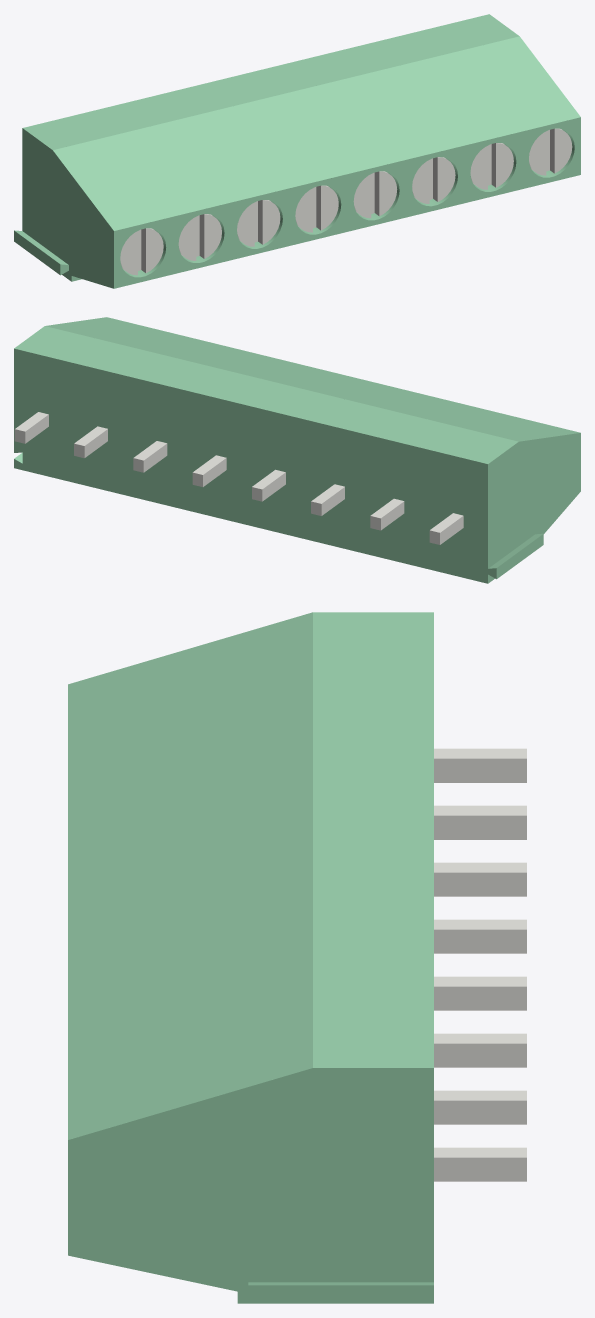
File: TerminalBlock_Phoenix_MKDS-1,5-8-5.08_1x08_P5.08mm_Horizontal.glb
3 views of the same model, one above another, from view 1: azimuth 30°, elevation 25°; view 2: azimuth 150°, elevation 25°; view 3: azimuth 270°, elevation 25° (orthographic). The views are drawn at different scales.
Visible parts, largest first — view 1: Shape_IndexedFaceSet.003, Shape_IndexedFaceSet.004, Shape_IndexedFaceSet.002, Shape_IndexedFaceSet, Shape_IndexedFaceSet.237, Shape_IndexedFaceSet.277, Shape_IndexedFaceSet.287, Shape_IndexedFaceSet.227, Shape_IndexedFaceSet.257, Shape_IndexedFaceSet.261, Shape_IndexedFaceSet.231, Shape_IndexedFaceSet.217 (+9 smaller); view 2: Shape_IndexedFaceSet.005, Shape_IndexedFaceSet.004, Shape_IndexedFaceSet.003, Shape_IndexedFaceSet, Shape_IndexedFaceSet.020; view 3: Shape_IndexedFaceSet.003, Shape_IndexedFaceSet.011, Shape_IndexedFaceSet.004, Shape_IndexedFaceSet.027, Shape_IndexedFaceSet.031, Shape_IndexedFaceSet.035, Shape_IndexedFaceSet.039, Shape_IndexedFaceSet.043, Shape_IndexedFaceSet.047, Shape_IndexedFaceSet.051, Shape_IndexedFaceSet.055, Shape_IndexedFaceSet.022 (+8 smaller).
Boxes of the visible parts, x1=… form: Shape_IndexedFaceSet.003: x1=53, y1=36, x2=580, y2=230; Shape_IndexedFaceSet.004: x1=23, y1=14, x2=519, y2=149; Shape_IndexedFaceSet.002: x1=114, y1=117, x2=580, y2=288; Shape_IndexedFaceSet: x1=22, y1=128, x2=113, y2=288; Shape_IndexedFaceSet.237: x1=437, y1=157, x2=455, y2=201; Shape_IndexedFaceSet.277: x1=262, y1=200, x2=280, y2=244; Shape_IndexedFaceSet.287: x1=554, y1=129, x2=572, y2=173; Shape_IndexedFaceSet.227: x1=379, y1=171, x2=397, y2=216; Shape_IndexedFaceSet.257: x1=204, y1=214, x2=221, y2=258; Shape_IndexedFaceSet.261: x1=178, y1=217, x2=196, y2=260; Shape_IndexedFaceSet.231: x1=353, y1=174, x2=371, y2=218; Shape_IndexedFaceSet.217: x1=496, y1=143, x2=513, y2=187; Shape_IndexedFaceSet.005: x1=14, y1=348, x2=496, y2=583; Shape_IndexedFaceSet.004: x1=14, y1=326, x2=518, y2=463; Shape_IndexedFaceSet.003: x1=45, y1=317, x2=580, y2=441; Shape_IndexedFaceSet: x1=488, y1=433, x2=580, y2=583; Shape_IndexedFaceSet.020: x1=496, y1=534, x2=543, y2=578; Shape_IndexedFaceSet.003: x1=68, y1=612, x2=312, y2=1139; Shape_IndexedFaceSet.011: x1=68, y1=1068, x2=433, y2=1303; Shape_IndexedFaceSet.004: x1=313, y1=612, x2=433, y2=1067; Shape_IndexedFaceSet.027: x1=434, y1=929, x2=526, y2=953; Shape_IndexedFaceSet.031: x1=434, y1=1043, x2=526, y2=1067; Shape_IndexedFaceSet.035: x1=434, y1=986, x2=526, y2=1010; Shape_IndexedFaceSet.039: x1=434, y1=1157, x2=526, y2=1181; Shape_IndexedFaceSet.043: x1=434, y1=1100, x2=526, y2=1124; Shape_IndexedFaceSet.047: x1=434, y1=758, x2=526, y2=782; Shape_IndexedFaceSet.051: x1=434, y1=815, x2=526, y2=839; Shape_IndexedFaceSet.055: x1=434, y1=872, x2=526, y2=896; Shape_IndexedFaceSet.022: x1=248, y1=1274, x2=433, y2=1282.
Size of the model in its own units: 16.29 by 3.86 by 6.81.
